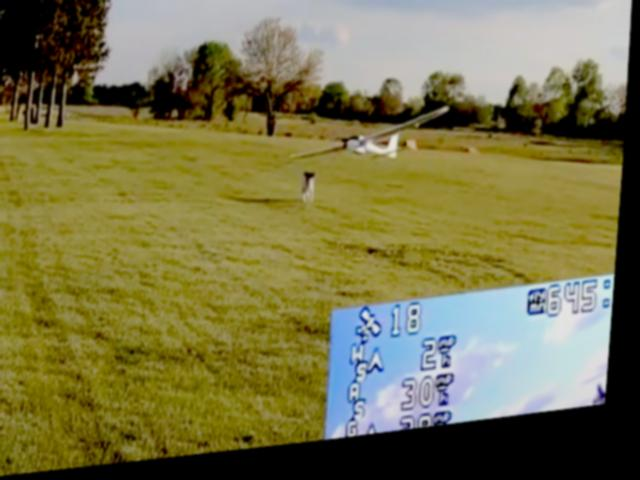iha: (294, 120, 442, 177)
